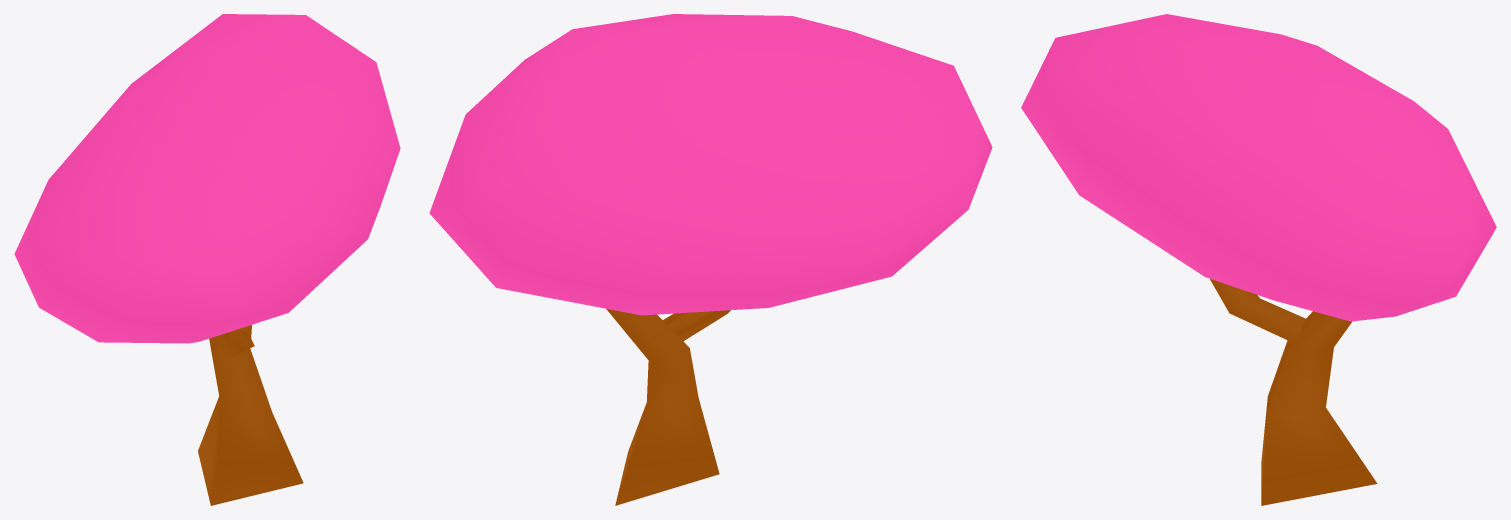
File: tree.glb
3 views of the same model, side by side, from view 1: azimuth 30°, elevation 25°; view 2: azimuth 150°, elevation 25°; view 3: azimuth 270°, elevation 25° (orthographic). The views are drawn at different scales.
Visible parts, largest first — view 1: tree_trunk; view 2: tree_trunk; view 3: tree_trunk.
Part boxes in pixels (x1=…): tree_trunk: x1=14, y1=14, x2=400, y2=505; tree_trunk: x1=429, y1=14, x2=992, y2=505; tree_trunk: x1=1021, y1=14, x2=1496, y2=505.
Size of the model in its own units: 1 by 1 by 1.
